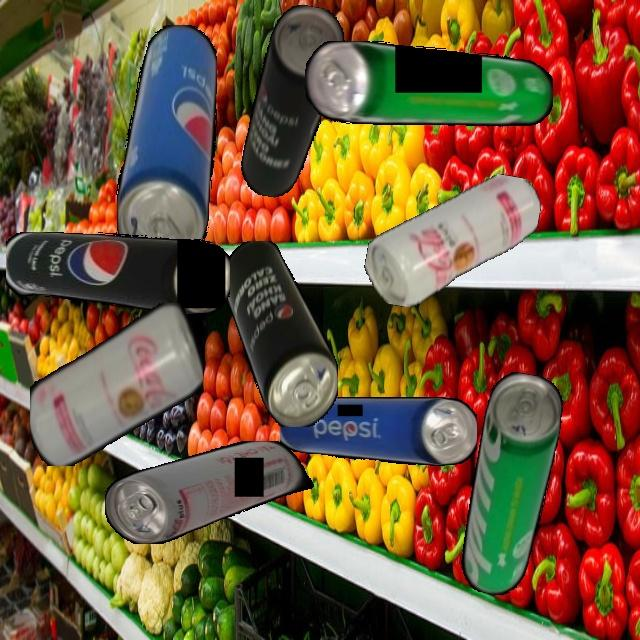debris: (359, 154, 545, 327), (29, 302, 203, 466), (455, 369, 568, 600), (115, 24, 217, 268), (237, 0, 349, 204), (305, 40, 553, 128), (105, 440, 314, 544), (223, 240, 338, 427), (5, 232, 230, 315), (279, 397, 477, 466)
